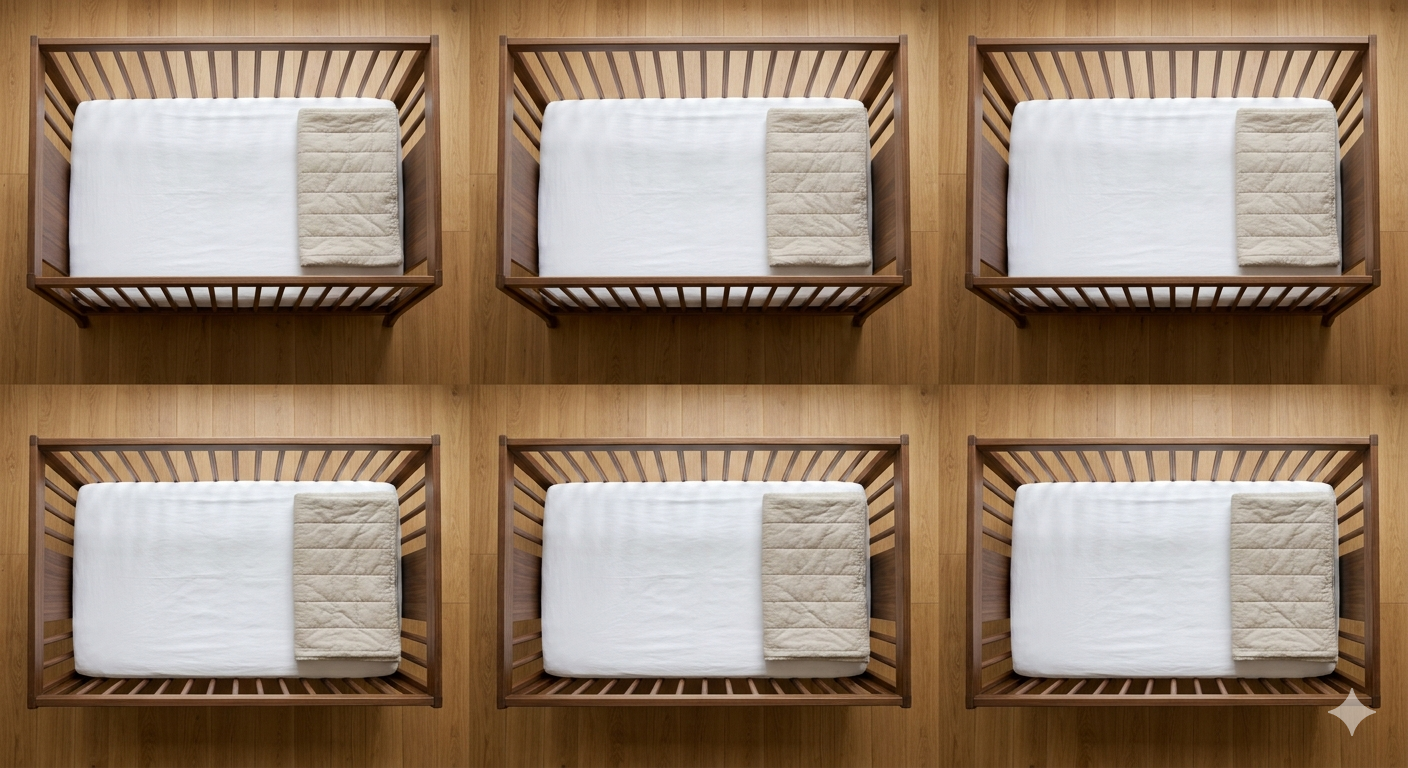crib: (497, 36, 910, 326), (28, 37, 441, 326), (27, 436, 442, 707), (1012, 480, 1338, 677), (1008, 96, 1341, 275), (582, 524, 756, 656)
